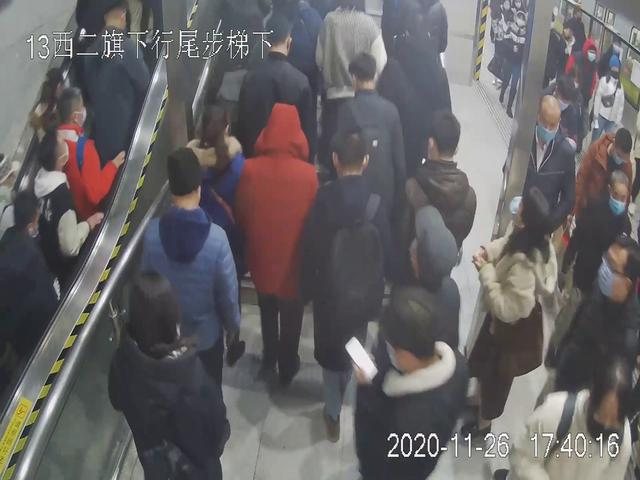person: (124, 145, 238, 451), (306, 122, 395, 441), (107, 272, 237, 477), (239, 99, 326, 384), (462, 186, 561, 436), (334, 297, 466, 480), (400, 111, 490, 316), (324, 44, 408, 260), (24, 128, 99, 303), (44, 96, 129, 245), (514, 93, 588, 251), (250, 18, 315, 176)
